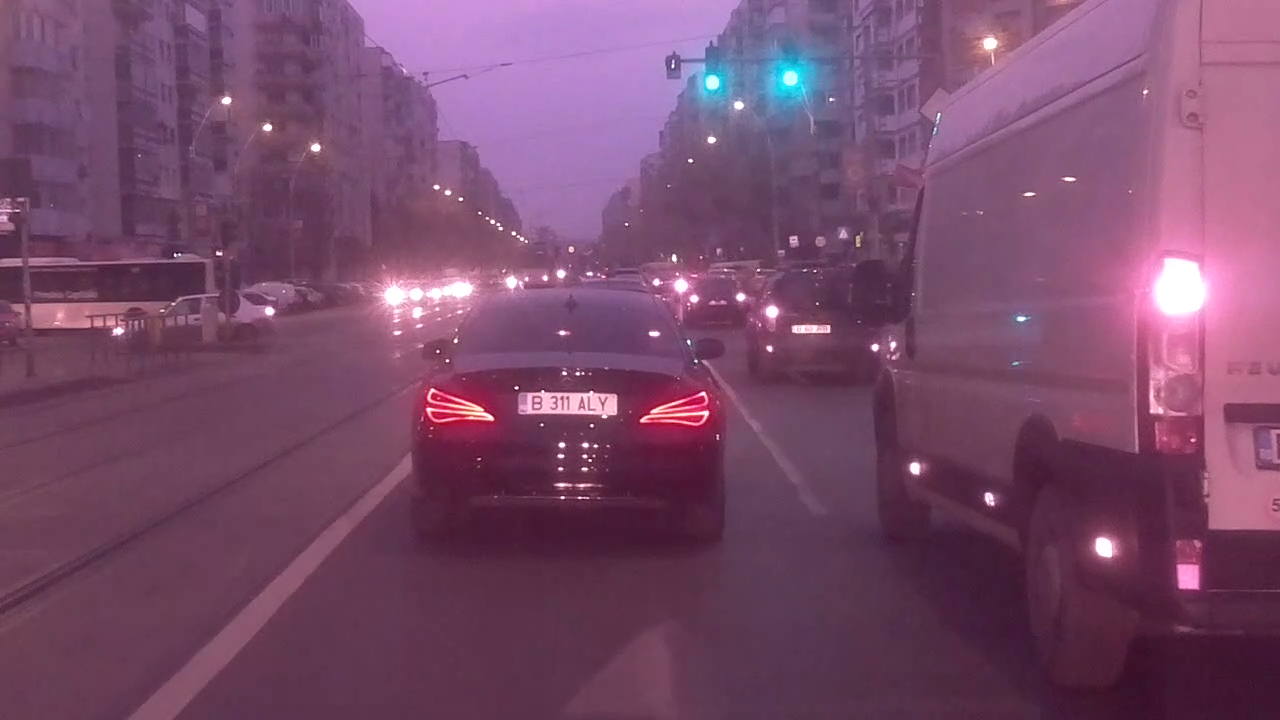license-plate: (513, 389, 621, 418)
